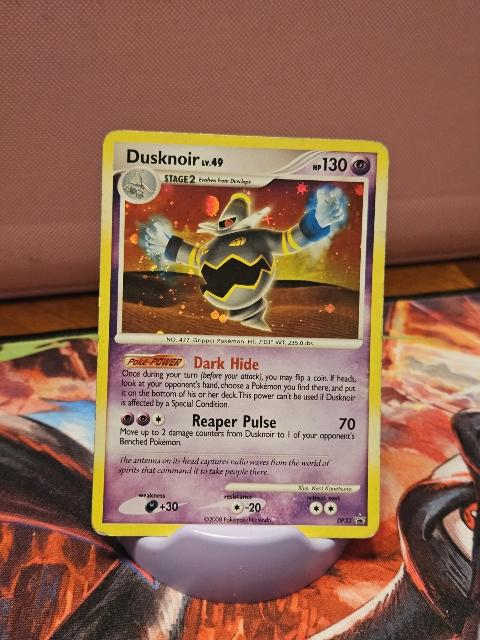Card: (89, 127, 393, 541)
Name: (124, 144, 202, 172)
